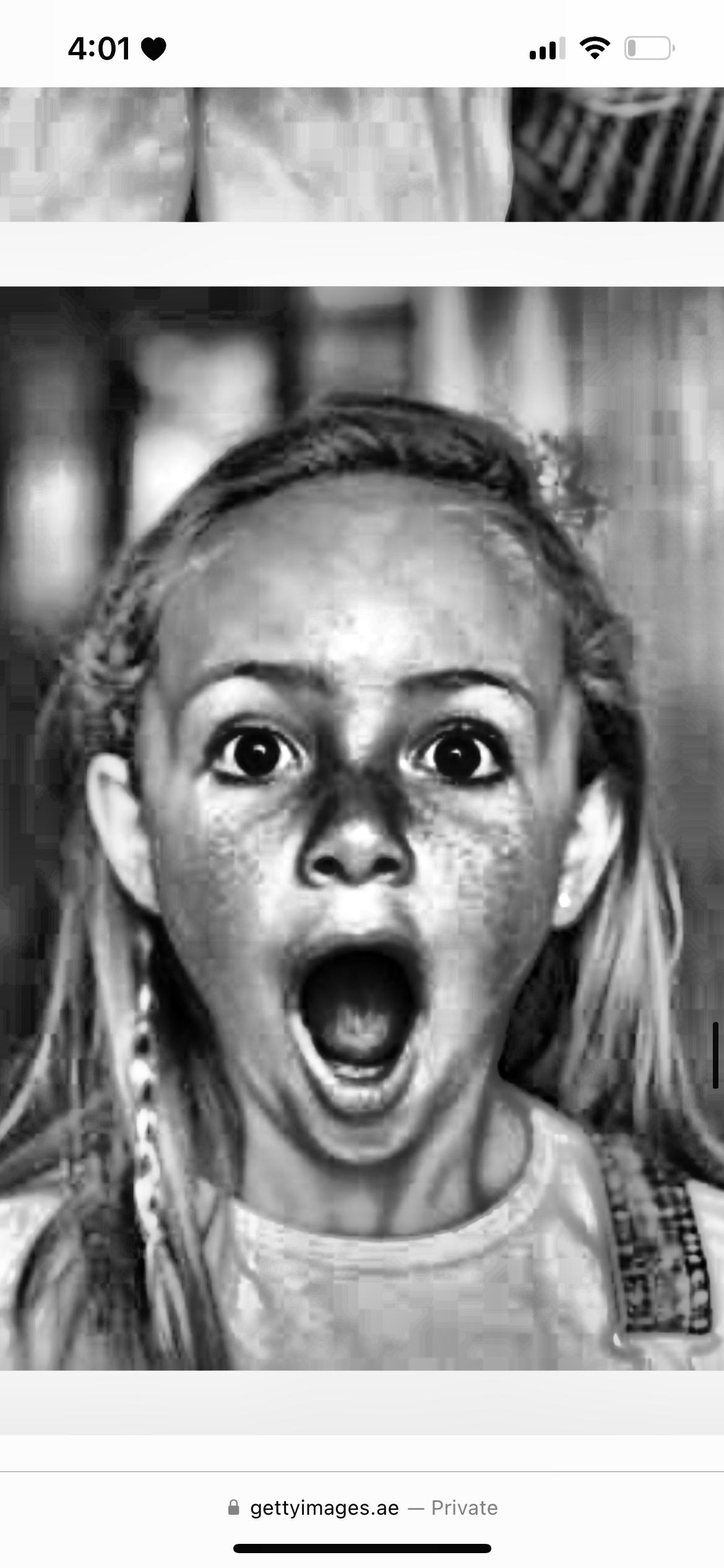surprised: (161, 511, 601, 1164)
